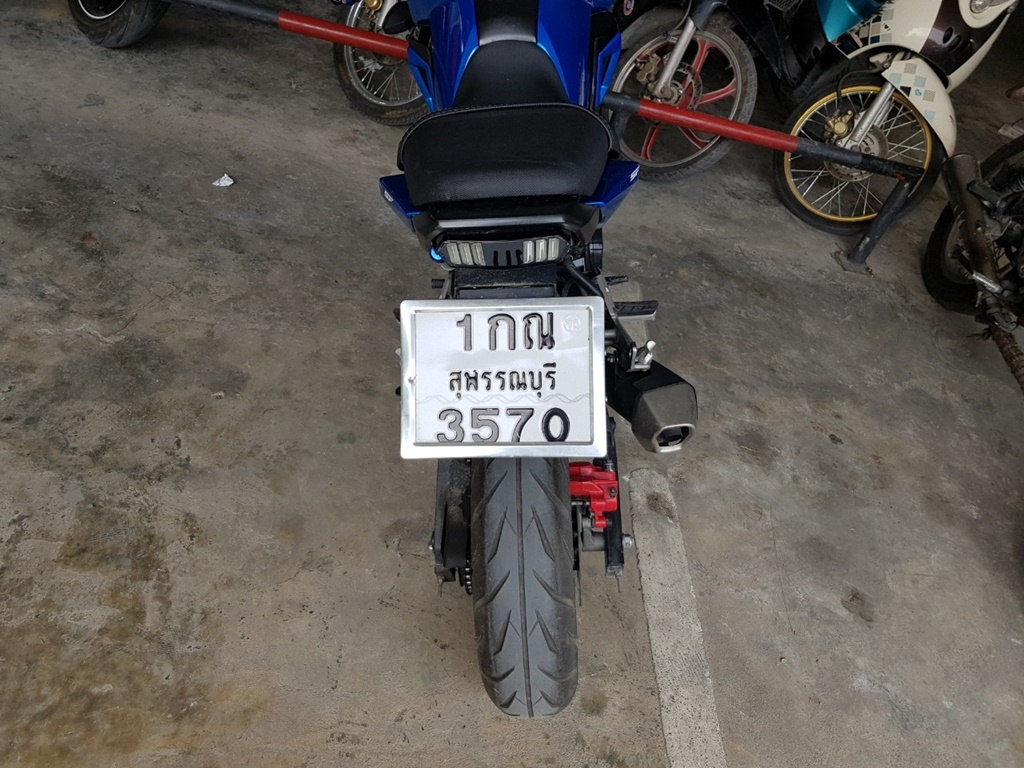five: (460, 399, 504, 447)
seven: (496, 402, 537, 447)
three: (433, 399, 466, 449)
zero: (538, 406, 575, 446)
